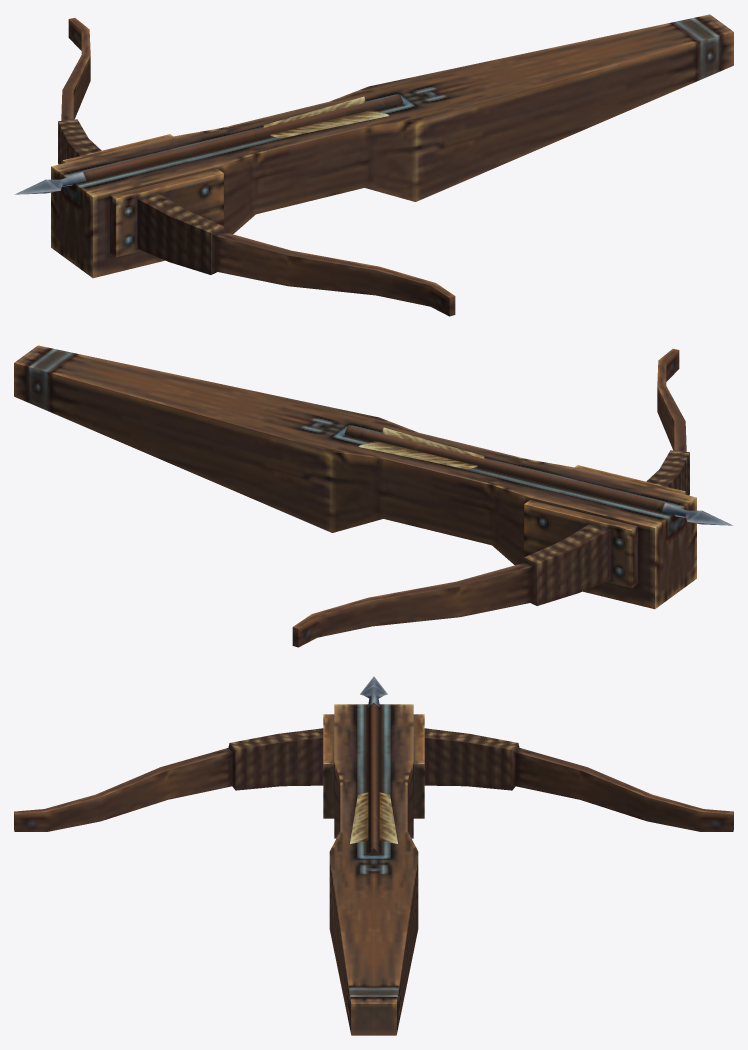
Rendered from Crossbow02_a.FBX.
3 views of the same model, one above another, from view 1: azimuth 30°, elevation 25°; view 2: azimuth 150°, elevation 25°; view 3: azimuth 270°, elevation 25° (orthographic). The views are drawn at different scales.
Visible parts, largest first — view 1: Crossbow02_a; view 2: Crossbow02_a; view 3: Crossbow02_a.
Part boxes in pixels (<box>): Crossbow02_a: <box>14,14,733,316</box>; Crossbow02_a: <box>14,345,733,647</box>; Crossbow02_a: <box>14,676,733,1035</box>.
Bounding box in the file's own units: 93.14 × 11.23 × 86.79.
